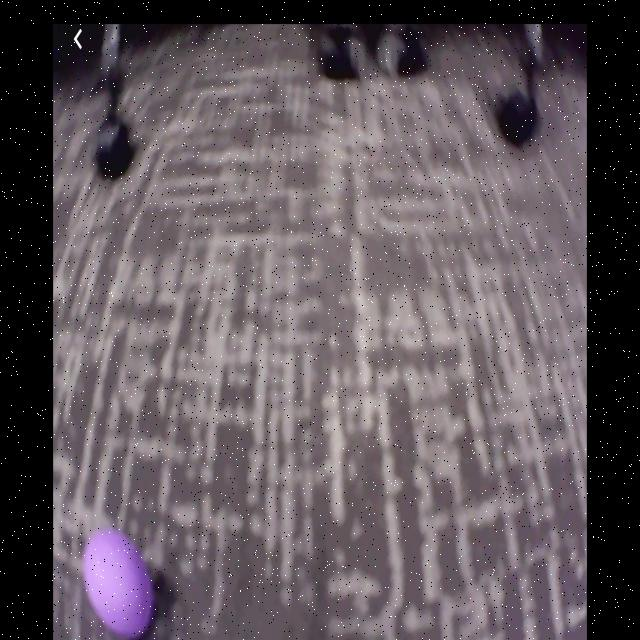ball: (81, 526, 153, 640)
